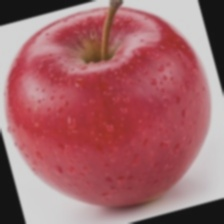apple: (24, 29, 224, 165)
